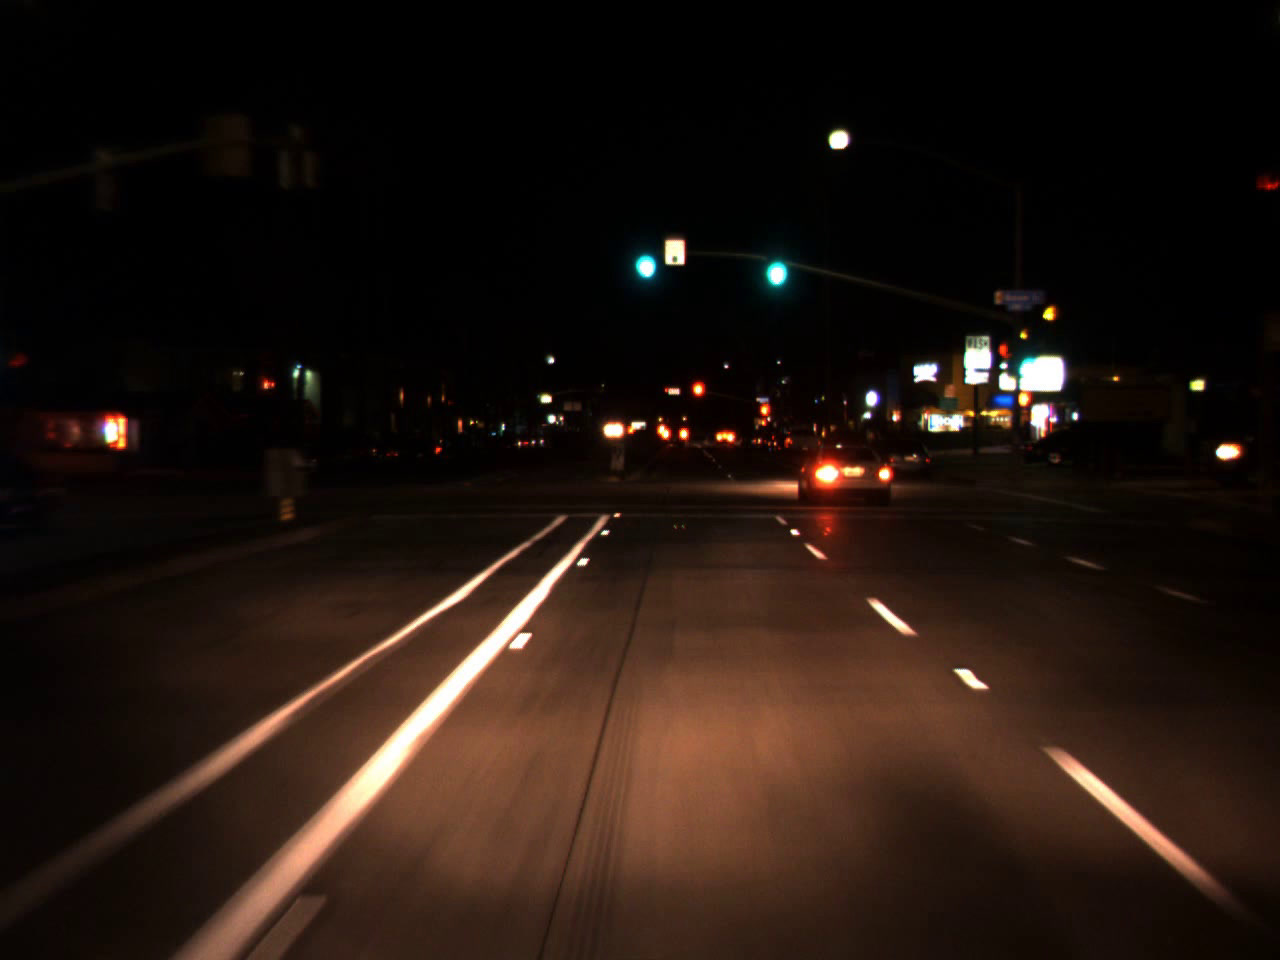go: (757, 230, 791, 296), (626, 224, 660, 287), (1014, 344, 1039, 386)
stop: (690, 378, 706, 415), (758, 401, 771, 433)
